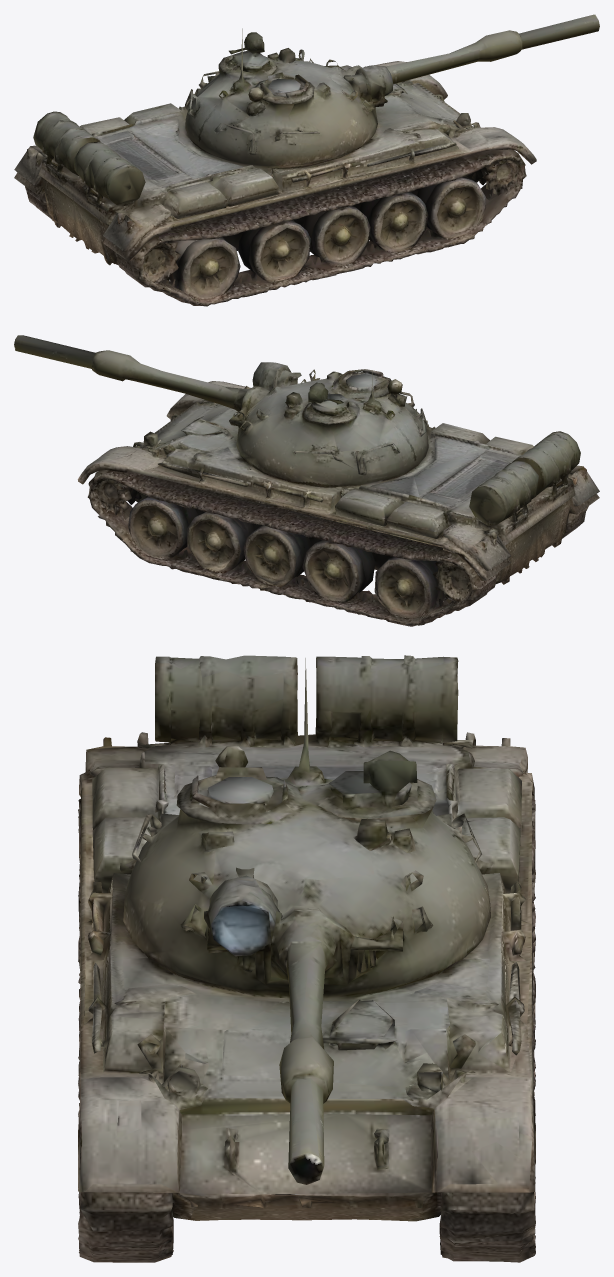
Rendered from tank_t62.glb.
3 views of the same model, one above another, from view 1: azimuth 30°, elevation 25°; view 2: azimuth 150°, elevation 25°; view 3: azimuth 270°, elevation 25° (orthographic). The views are drawn at different scales.
Parts seen in each view (by area): view 1: geometry_0; view 2: geometry_0; view 3: geometry_0.
Boxes of the visible parts, x1,y1,x2,y2 form: geometry_0: (14, 14, 599, 306); geometry_0: (14, 335, 599, 626); geometry_0: (78, 655, 535, 1262).
Size of the model in its own units: 1.12 by 0.4466 by 0.4212.
1 material, 1 textured.
